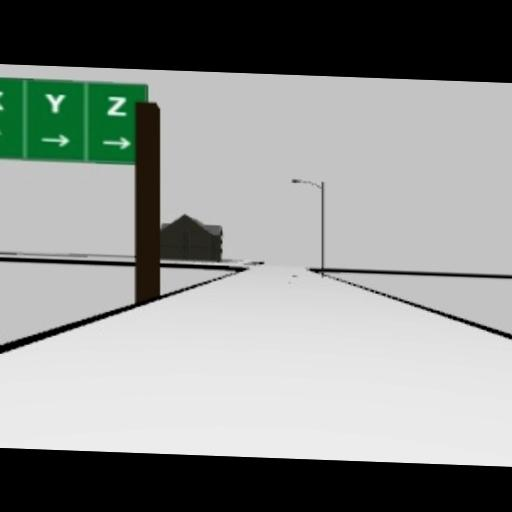Right: (101, 135, 131, 149), (41, 133, 71, 147)
X: (0, 89, 4, 109)
Y: (44, 93, 66, 113)
Z: (106, 95, 128, 116)
